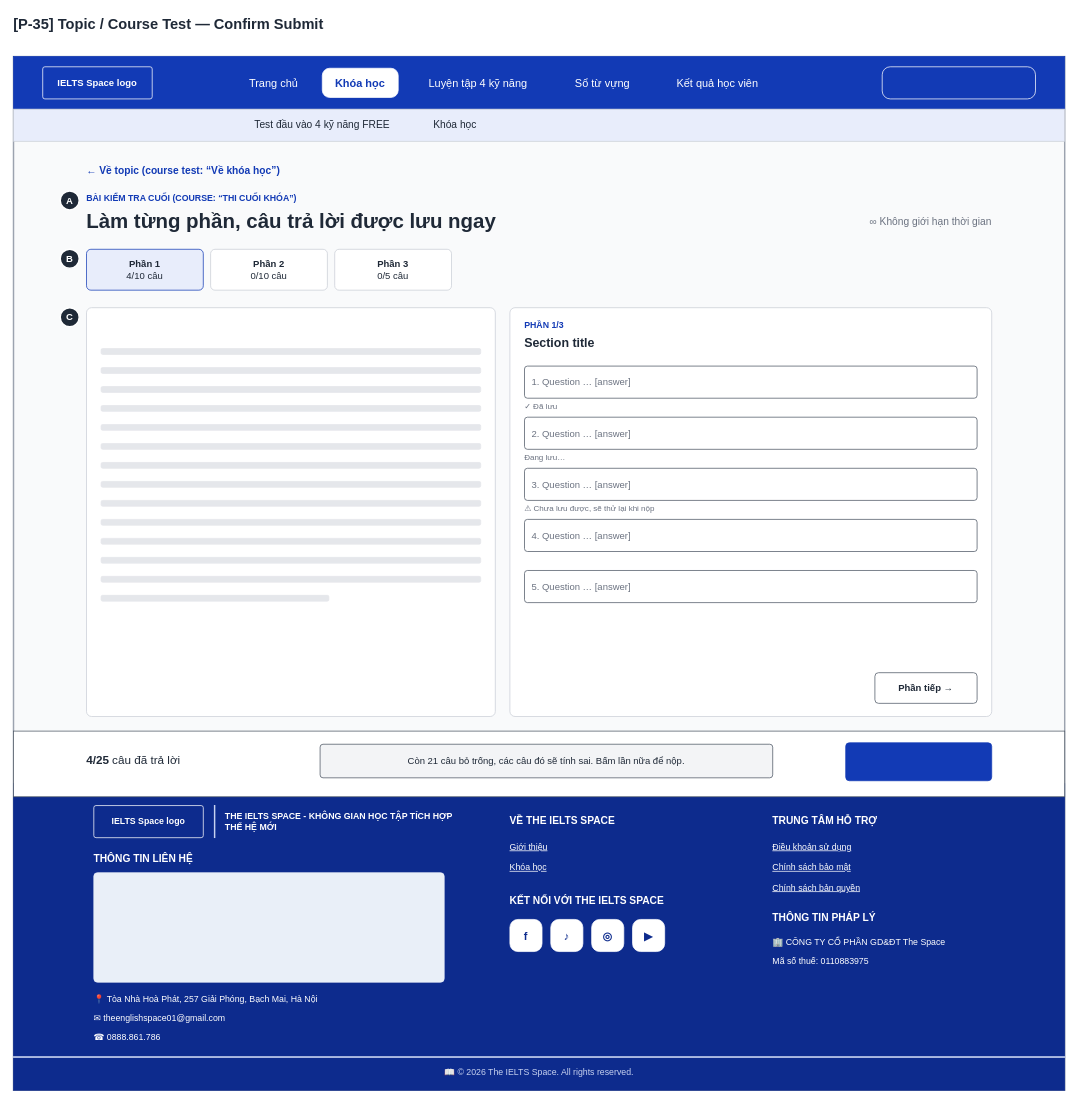
Image size: 1077x1103. Some labels were removed from this diagram. Here are the shapes that lost their labels. From the top down, the centre of each, then its label:
At pixel 958 82: "◯ Học viên · 30 Points ▾".
At pixel 290 511: "Section AudioBlock / PassageBlock".
At pixel 918 761: "➤ Vẫn nộp bài".
At pixel 268 927: "📍 The IELTS Space Mở trong Maps ↗".
